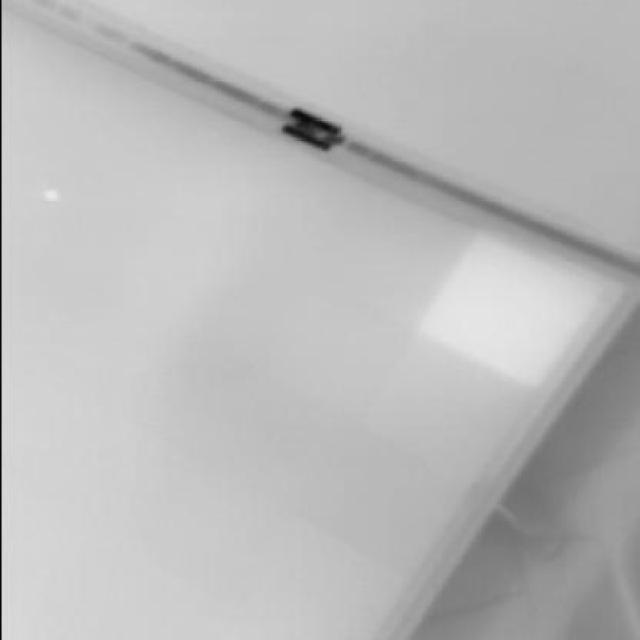hotspot: (410, 209, 612, 403)
